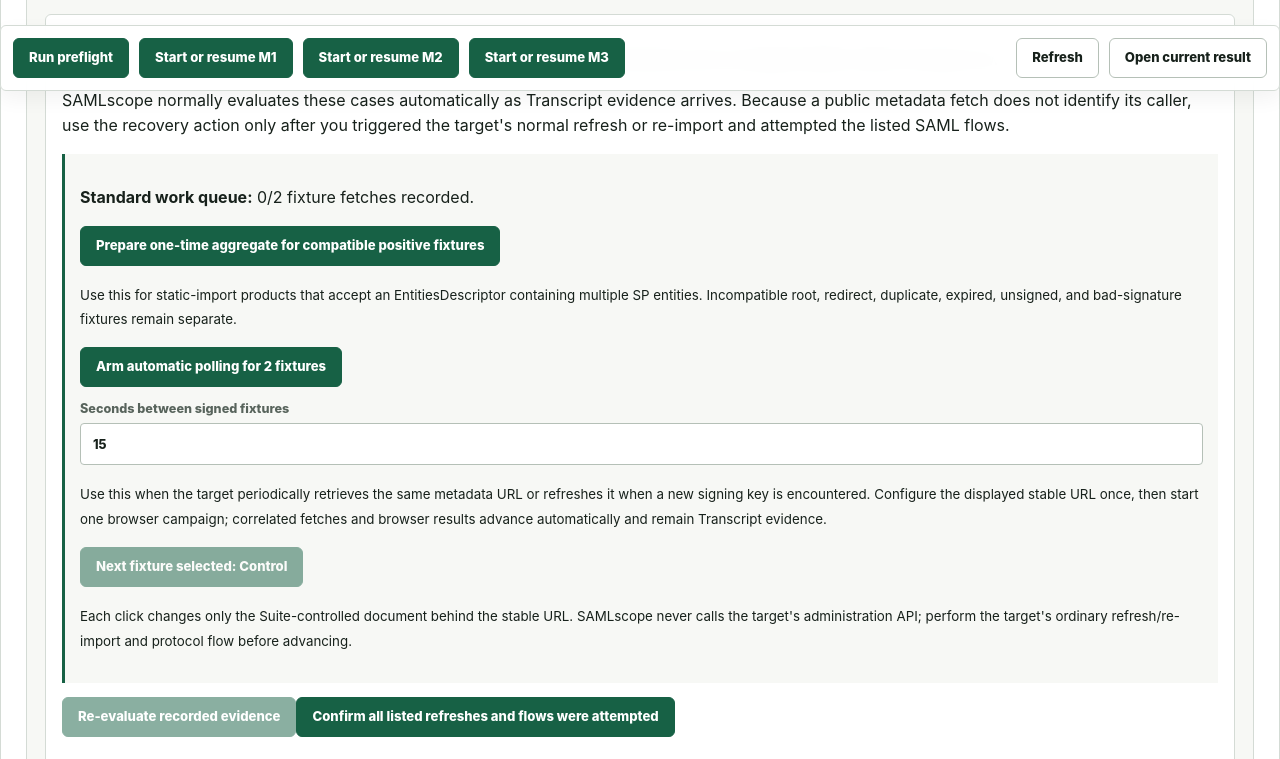
Test: arms one automatic polling campaign without collecting target verdict answers
(page scrolled)
What coordinates should you click on to do the following:
click the button "Arm automatic polling for 2 fixtures"
I would click on:
 (211, 367)
Its box is 80,347 -> 342,387.
(page scrolled)
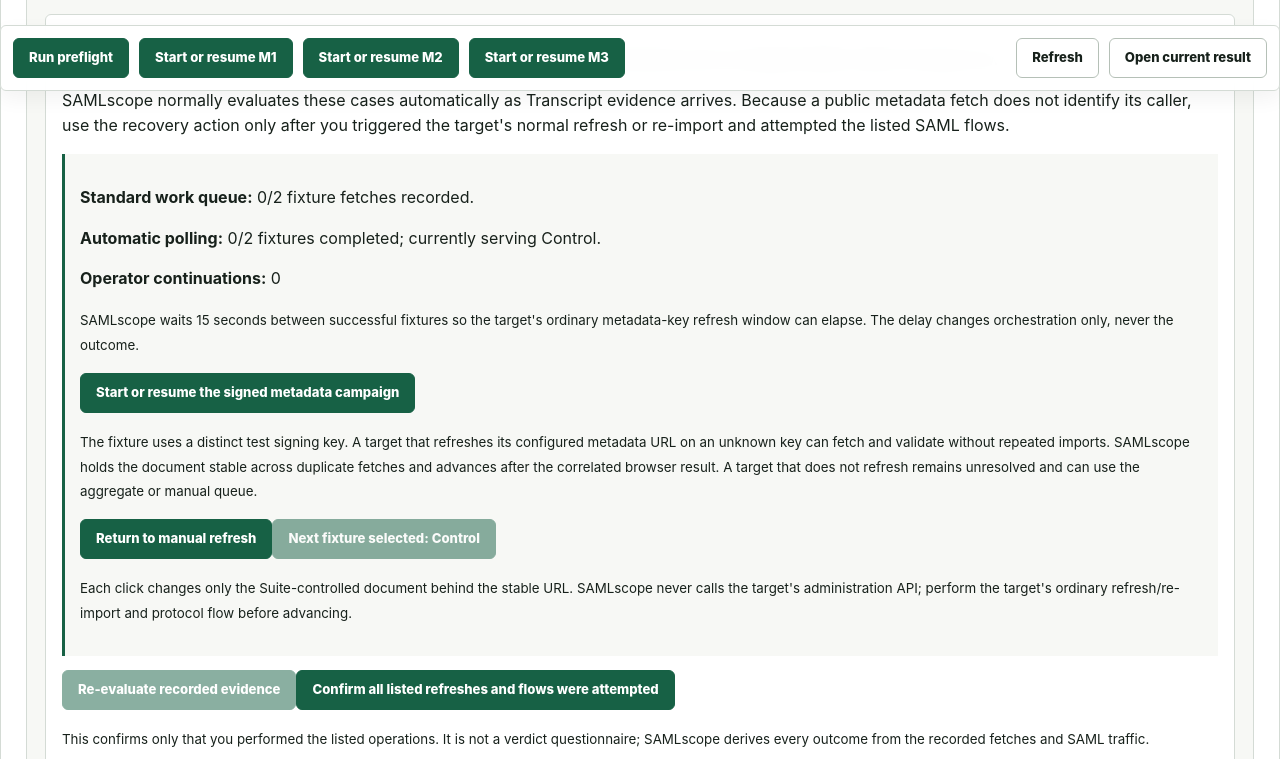
Check: the text "0/2 fixtures completed" is shown, box 80,228 -> 601,248
